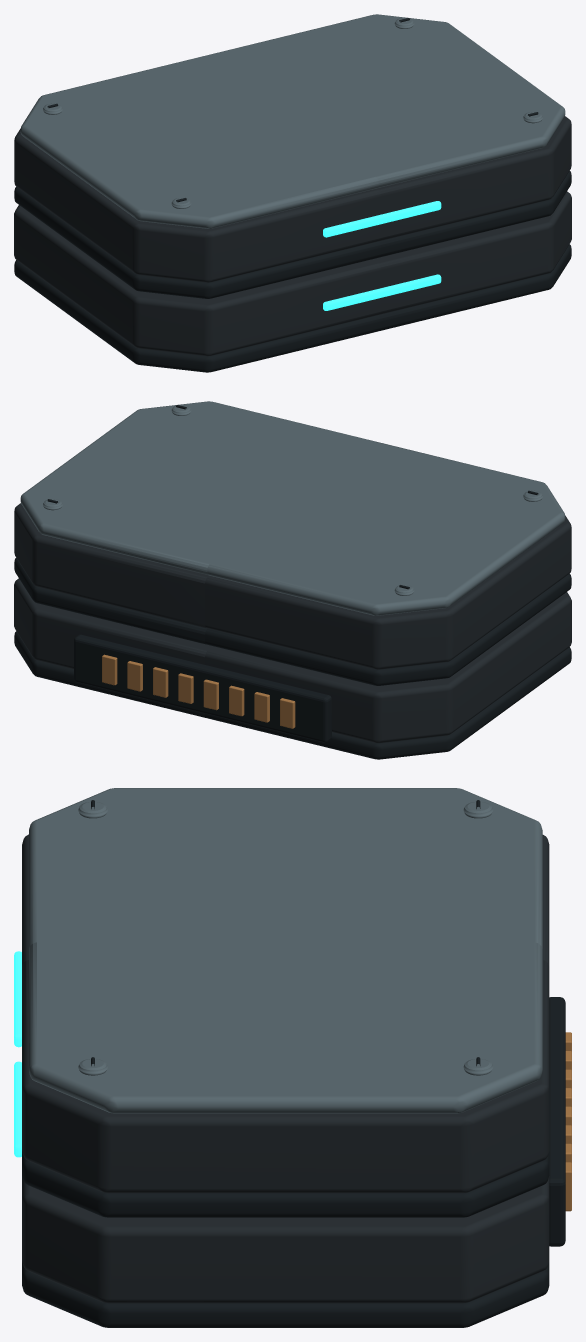
The model's file is reinforced_battery_pack.glb.
3 renders of one model, top to bottom at view 1: azimuth 30°, elevation 25°; view 2: azimuth 150°, elevation 25°; view 3: azimuth 270°, elevation 25°, orthographic. The views are drawn at different scales.
Visible parts, largest first — view 1: BatteryLid, BatteryLayer, BatteryLayer.001, BatteryIsolation, BatteryIsolation.001, BatteryChargeGauge.001, BatteryChargeGauge; view 2: BatteryLid, BatteryLayer.001, BatteryLayer, BatteryIsolation.001, ConnectorRecess, BatteryIsolation, GoldContact.004, GoldContact.006, GoldContact.007, GoldContact.005; view 3: BatteryLid, BatteryLayer.001, BatteryLayer, BatteryIsolation, BatteryIsolation.001, ConnectorRecess, CaptiveFastener.003, CaptiveFastener.002, BatteryChargeGauge, BatteryChargeGauge.001.
Part boxes in pixels (<box>): BatteryLid: <box>20,14,565,228</box>; BatteryLayer: <box>14,191,571,356</box>; BatteryLayer.001: <box>14,116,571,282</box>; BatteryIsolation: <box>14,244,571,372</box>; BatteryIsolation.001: <box>14,171,571,298</box>; BatteryChargeGauge.001: <box>323,201,441,237</box>; BatteryChargeGauge: <box>323,274,441,310</box>; BatteryLid: <box>20,401,565,615</box>; BatteryLayer.001: <box>14,503,571,669</box>; BatteryLayer: <box>14,578,571,743</box>; BatteryIsolation.001: <box>14,558,571,685</box>; ConnectorRecess: <box>74,634,331,742</box>; BatteryIsolation: <box>14,631,571,759</box>; GoldContact.004: <box>178,673,218,710</box>; GoldContact.006: <box>127,661,269,722</box>; GoldContact.007: <box>102,654,295,728</box>; GoldContact.005: <box>153,667,244,716</box>; BatteryLid: <box>29,788,542,1113</box>; BatteryLayer.001: <box>22,834,549,1193</box>; BatteryLayer: <box>22,1176,549,1303</box>; BatteryIsolation: <box>22,1261,549,1327</box>; BatteryIsolation.001: <box>22,1151,549,1217</box>; ConnectorRecess: <box>549,997,565,1246</box>; CaptiveFastener.003: <box>463,801,493,1075</box>; CaptiveFastener.002: <box>78,801,107,1075</box>; BatteryChargeGauge: <box>14,1061,21,1157</box>; BatteryChargeGauge.001: <box>14,951,21,1047</box>.
Size of the model in its own units: 1.12 by 0.39 by 0.8255.
